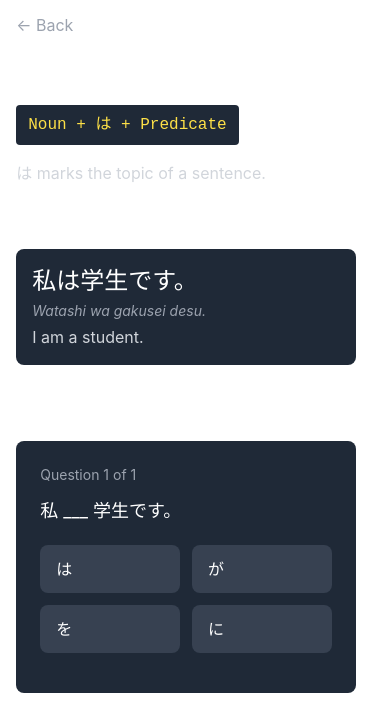
it: GrammarDetailPage › shows completed message when isCompleted is true in result
What coordinates should you click on to do the following:
click the button "は"
I would click on:
 (110, 569)
Its box is x1=40 y1=545 x2=180 y2=593.
(page scrolled)
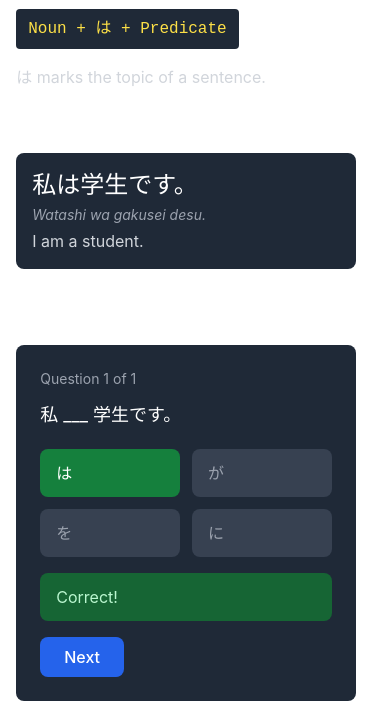
Expected: the text "Correct!" is shown, x1=40 y1=573 x2=332 y2=621
What coordinates should you click on to do the following:
click the button "Next"
I would click on:
 (82, 657)
Its box is x1=40 y1=637 x2=124 y2=677.
(page scrolled)
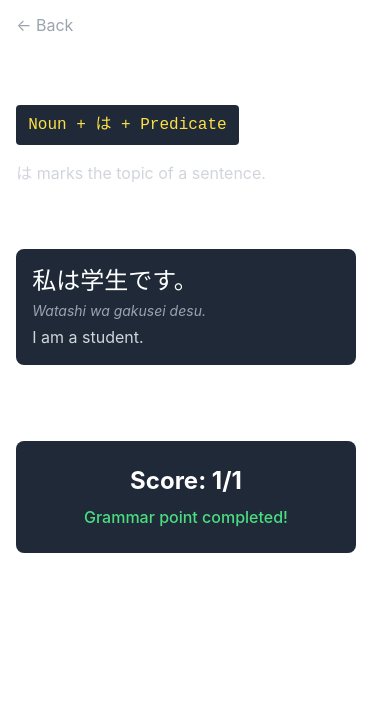
Expected: the text "Grammar point completed!" is shown, x1=84 y1=507 x2=288 y2=527
